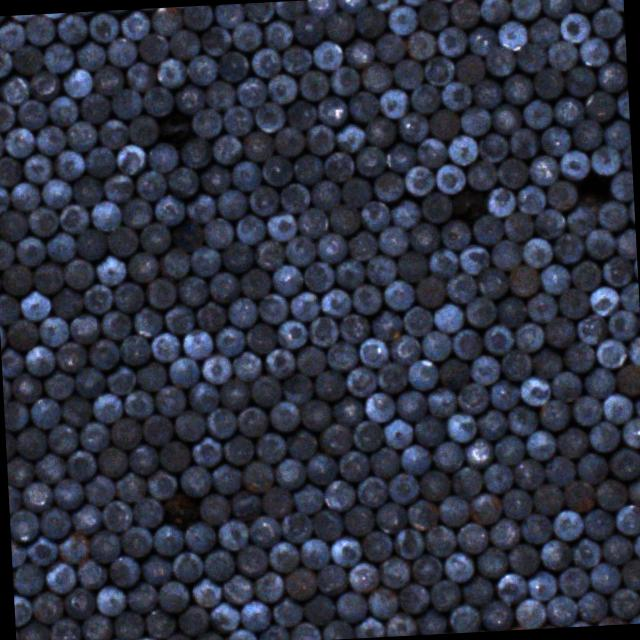tool: (381, 187, 431, 235), (326, 110, 376, 156), (164, 213, 214, 254), (378, 130, 422, 176), (592, 106, 632, 150), (608, 215, 637, 264), (506, 540, 542, 578), (366, 582, 400, 620), (138, 548, 172, 586), (55, 530, 92, 564), (156, 579, 191, 614), (449, 327, 484, 362), (142, 606, 178, 640), (310, 506, 344, 542), (36, 506, 72, 540), (228, 487, 264, 521), (322, 477, 356, 513), (448, 465, 484, 499), (317, 422, 353, 456), (462, 294, 498, 328), (12, 234, 48, 268), (290, 150, 324, 186), (428, 577, 462, 612), (460, 572, 495, 606), (201, 547, 235, 582), (488, 516, 522, 551), (469, 490, 504, 524), (542, 454, 577, 488), (254, 429, 288, 464), (13, 426, 48, 460), (140, 413, 175, 447), (330, 392, 364, 427), (243, 320, 278, 354), (362, 390, 397, 424), (436, 357, 471, 391), (574, 312, 609, 346), (1, 125, 36, 159), (345, 227, 379, 262), (70, 172, 104, 207), (489, 101, 524, 135), (59, 392, 92, 428), (51, 284, 84, 320), (83, 143, 116, 179), (583, 88, 616, 124), (31, 590, 65, 624), (314, 562, 348, 596), (345, 559, 379, 593), (378, 555, 412, 589), (411, 552, 445, 586), (106, 555, 140, 589), (234, 542, 268, 576), (266, 540, 300, 574), (456, 522, 490, 556), (406, 496, 440, 530), (568, 536, 602, 570), (550, 508, 584, 542), (594, 478, 628, 512), (272, 456, 306, 490), (352, 418, 386, 452), (298, 398, 332, 432), (153, 384, 187, 418), (248, 374, 282, 408), (280, 371, 314, 405), (313, 368, 347, 402), (118, 334, 152, 368), (556, 426, 590, 460), (602, 392, 636, 426), (457, 382, 491, 416), (529, 344, 563, 378), (600, 255, 634, 289), (220, 239, 254, 273), (252, 100, 286, 134), (283, 567, 318, 600), (354, 475, 389, 508), (82, 473, 115, 508), (104, 362, 137, 397), (400, 443, 433, 478), (581, 366, 616, 399), (197, 162, 232, 195), (527, 152, 560, 187), (44, 560, 76, 596), (70, 500, 102, 536), (211, 460, 243, 496), (386, 332, 422, 364), (494, 292, 526, 328), (74, 226, 106, 262), (12, 562, 45, 596), (239, 598, 272, 632), (302, 593, 336, 626), (335, 589, 368, 623), (94, 583, 128, 616), (298, 537, 332, 570), (392, 526, 426, 559), (25, 533, 58, 567), (247, 513, 280, 547), (278, 511, 312, 544), (344, 503, 377, 537), (129, 495, 162, 529), (512, 597, 546, 630), (475, 546, 509, 579), (582, 506, 615, 540), (512, 458, 546, 491), (575, 452, 608, 486), (216, 376, 249, 410), (346, 364, 379, 398), (41, 368, 75, 401), (166, 356, 200, 389), (85, 336, 119, 369), (5, 318, 38, 352), (194, 298, 227, 332), (589, 420, 622, 454), (538, 399, 572, 432), (562, 340, 596, 373), (370, 308, 404, 341), (568, 258, 602, 291), (0, 262, 34, 295), (144, 276, 177, 310), (270, 262, 304, 295), (334, 256, 368, 289), (156, 247, 190, 280), (310, 176, 344, 209), (532, 65, 565, 99), (10, 43, 44, 76), (359, 60, 393, 93), (167, 28, 201, 61), (386, 3, 420, 36), (86, 11, 120, 44), (242, 458, 274, 493), (109, 416, 141, 451), (206, 406, 238, 441), (27, 396, 62, 428), (400, 303, 432, 338), (382, 278, 417, 310), (74, 557, 107, 590), (495, 571, 528, 604), (190, 435, 223, 468), (173, 409, 206, 442), (54, 340, 87, 373), (225, 295, 258, 328), (475, 407, 508, 440), (607, 308, 640, 341), (328, 202, 361, 235), (403, 164, 436, 197), (489, 238, 522, 271), (15, 98, 48, 131), (216, 49, 249, 82), (64, 586, 96, 620), (442, 550, 476, 582), (362, 528, 394, 562), (424, 524, 456, 558), (88, 530, 120, 564), (376, 500, 408, 534), (606, 586, 640, 618), (525, 568, 559, 600), (530, 484, 564, 516), (562, 480, 596, 512), (178, 465, 212, 497), (336, 450, 370, 482), (126, 443, 160, 475), (22, 344, 56, 376), (180, 328, 214, 360), (210, 324, 244, 356), (98, 308, 132, 340), (317, 286, 351, 318), (432, 440, 466, 472), (492, 434, 526, 466), (525, 428, 557, 462), (394, 390, 428, 422), (498, 348, 532, 380), (596, 336, 628, 370), (481, 324, 515, 356), (432, 300, 464, 334), (526, 290, 558, 324), (588, 284, 622, 316), (506, 264, 540, 296), (302, 260, 336, 292), (408, 221, 442, 253), (120, 196, 154, 228), (114, 142, 148, 174), (146, 140, 178, 174), (242, 128, 274, 162), (428, 106, 462, 138), (378, 86, 410, 120), (595, 199, 629, 231), (476, 130, 510, 162), (45, 94, 79, 126), (42, 40, 74, 74), (78, 92, 112, 124), (234, 76, 268, 108), (392, 56, 424, 90), (422, 54, 456, 86), (91, 64, 125, 96), (248, 46, 282, 78), (340, 36, 374, 68), (466, 22, 498, 56), (136, 31, 168, 65), (54, 12, 86, 46), (576, 36, 610, 68), (498, 17, 530, 51), (396, 111, 431, 142), (452, 53, 487, 84), (270, 596, 303, 628), (150, 523, 183, 555), (216, 518, 248, 551), (438, 494, 471, 526), (197, 492, 230, 524), (261, 486, 294, 518), (388, 471, 420, 504), (418, 468, 451, 500), (480, 599, 512, 632), (544, 594, 576, 627), (575, 590, 608, 622), (589, 562, 622, 594), (539, 538, 572, 570), (520, 512, 552, 545), (608, 447, 640, 480), (65, 448, 97, 481), (286, 426, 319, 458), (77, 420, 110, 452), (268, 400, 300, 433), (187, 380, 220, 412), (293, 344, 326, 376), (306, 315, 339, 347), (162, 302, 195, 334), (256, 292, 288, 325), (287, 290, 320, 322), (351, 282, 384, 314), (571, 394, 604, 426), (406, 357, 438, 390), (543, 315, 576, 347), (556, 288, 589, 320), (413, 275, 446, 307), (20, 288, 52, 321), (208, 270, 240, 303), (61, 258, 94, 290), (315, 232, 348, 264), (377, 224, 410, 256), (202, 216, 235, 248), (265, 209, 297, 242), (248, 183, 280, 216), (40, 177, 73, 209), (101, 170, 134, 202), (134, 168, 166, 201), (22, 151, 54, 184), (189, 106, 222, 138), (222, 103, 254, 136), (410, 82, 442, 115), (522, 236, 554, 269), (584, 227, 616, 260), (502, 209, 534, 242), (552, 95, 584, 128), (500, 72, 533, 104), (23, 14, 56, 46), (172, 82, 204, 115), (200, 25, 233, 57), (448, 603, 482, 634), (176, 604, 210, 635), (208, 600, 239, 634), (398, 582, 429, 616), (119, 525, 153, 556), (101, 498, 132, 532), (292, 481, 323, 515), (221, 434, 255, 465), (237, 404, 268, 438), (91, 390, 122, 424), (166, 166, 200, 197), (51, 149, 85, 180), (184, 54, 218, 85), (126, 581, 158, 613), (221, 572, 253, 604), (252, 570, 284, 602), (170, 552, 202, 584), (330, 536, 362, 568), (51, 478, 83, 510), (114, 471, 146, 503), (146, 468, 178, 500), (306, 452, 338, 484), (96, 446, 128, 478), (158, 440, 190, 472), (46, 422, 78, 454), (200, 353, 232, 385), (356, 336, 388, 368), (132, 305, 164, 337), (414, 415, 446, 447), (445, 412, 477, 444), (550, 370, 582, 402), (376, 362, 408, 394), (446, 272, 478, 304), (112, 281, 144, 313), (177, 274, 209, 306), (240, 267, 272, 299), (458, 242, 490, 274), (254, 238, 286, 270), (285, 234, 317, 266), (440, 218, 472, 250), (234, 212, 266, 244), (340, 174, 372, 206), (261, 154, 293, 186), (324, 150, 356, 182), (304, 124, 336, 156), (34, 124, 66, 156), (285, 98, 317, 130), (316, 94, 348, 126), (564, 204, 596, 236), (483, 186, 515, 218), (570, 118, 602, 150), (470, 78, 502, 110), (28, 68, 60, 100), (267, 72, 299, 104), (61, 67, 93, 99), (280, 44, 312, 76), (374, 31, 406, 63), (230, 20, 262, 52), (262, 18, 294, 50), (355, 6, 387, 38), (484, 44, 516, 76), (33, 452, 66, 483), (121, 389, 154, 420), (75, 365, 106, 398), (231, 348, 262, 381), (365, 253, 398, 284), (397, 250, 430, 281), (105, 225, 138, 256), (296, 206, 329, 237), (27, 206, 60, 237), (372, 170, 405, 201), (231, 157, 262, 190), (417, 136, 448, 169), (210, 132, 243, 163), (553, 232, 584, 265), (471, 213, 504, 244), (559, 11, 592, 42), (10, 508, 40, 542), (182, 522, 216, 552), (9, 372, 43, 402), (338, 312, 372, 342), (188, 244, 222, 274), (532, 208, 566, 238), (190, 576, 222, 607), (326, 340, 358, 371), (68, 313, 100, 344), (507, 404, 539, 435), (427, 386, 458, 418), (489, 378, 520, 410), (33, 262, 64, 294), (94, 253, 126, 284), (126, 250, 157, 282), (420, 191, 452, 222), (58, 203, 90, 234), (153, 194, 184, 226), (184, 191, 216, 222), (279, 181, 311, 212), (435, 162, 466, 194), (354, 145, 386, 176), (448, 134, 480, 165), (272, 125, 304, 156), (364, 115, 396, 146), (65, 120, 97, 151), (441, 80, 472, 112), (467, 158, 498, 190), (497, 156, 528, 188), (509, 126, 540, 158), (538, 125, 570, 156), (522, 98, 553, 130), (564, 65, 596, 96), (596, 60, 628, 91), (110, 88, 142, 119), (142, 86, 173, 118), (328, 65, 360, 96), (125, 60, 156, 92), (156, 56, 187, 88), (404, 29, 436, 60), (74, 39, 106, 70), (104, 36, 136, 67), (293, 12, 324, 44), (591, 6, 623, 37), (557, 566, 590, 596), (600, 534, 633, 564), (36, 316, 69, 346), (370, 447, 400, 480), (514, 321, 544, 354), (7, 182, 40, 212), (516, 182, 546, 215), (202, 80, 235, 110), (312, 38, 342, 71), (6, 453, 34, 488), (421, 330, 452, 361), (97, 118, 128, 149), (349, 90, 380, 121), (528, 15, 559, 46), (416, 606, 448, 636), (112, 610, 144, 640), (22, 481, 52, 513), (134, 360, 166, 390), (264, 346, 294, 378), (385, 418, 415, 450), (519, 376, 551, 406), (469, 354, 501, 384), (540, 262, 570, 294), (428, 247, 458, 279), (45, 231, 77, 261), (139, 223, 171, 253), (217, 188, 249, 218), (128, 114, 158, 146), (546, 180, 578, 210), (558, 150, 590, 180), (460, 105, 492, 135), (298, 68, 328, 100), (434, 26, 466, 56), (416, 0, 448, 30), (515, 42, 547, 72), (546, 40, 578, 70), (0, 207, 28, 241), (383, 610, 418, 637), (502, 487, 532, 518), (482, 462, 512, 493), (478, 267, 508, 298), (83, 283, 113, 314), (90, 200, 121, 230), (179, 137, 210, 167), (590, 144, 620, 175), (0, 72, 29, 104), (148, 7, 180, 36), (80, 612, 113, 640), (447, 0, 480, 28), (150, 332, 180, 362), (276, 318, 306, 348), (464, 437, 494, 467), (360, 200, 390, 230), (120, 10, 150, 40), (608, 168, 634, 202), (614, 363, 640, 396), (0, 17, 25, 51), (324, 12, 354, 40), (180, 5, 212, 31), (478, 0, 510, 26), (49, 615, 82, 640), (614, 504, 640, 535), (353, 614, 384, 639), (212, 4, 244, 28), (320, 618, 354, 640), (15, 619, 50, 640), (618, 557, 640, 590), (4, 400, 28, 430), (619, 280, 640, 314), (1, 346, 24, 377), (244, 2, 275, 25), (0, 291, 22, 323), (0, 154, 22, 185), (274, 0, 306, 21), (290, 619, 321, 640), (510, 0, 542, 20), (620, 417, 640, 448), (539, 0, 573, 18), (10, 536, 28, 568), (258, 623, 291, 640), (14, 594, 32, 624), (305, 0, 336, 16), (8, 484, 23, 516), (0, 101, 16, 131), (626, 334, 640, 368), (0, 235, 14, 268), (224, 627, 258, 640), (616, 88, 630, 119), (627, 473, 640, 506), (336, 0, 368, 13), (0, 45, 12, 79), (191, 628, 224, 640), (572, 0, 603, 12), (369, 0, 399, 10), (631, 528, 640, 561), (0, 182, 9, 213), (160, 632, 193, 640), (127, 634, 162, 640), (606, 0, 624, 10), (0, 128, 3, 159)
tool_b: (441, 174, 498, 228), (162, 492, 198, 528), (159, 113, 192, 144)
void: (566, 160, 622, 216)
